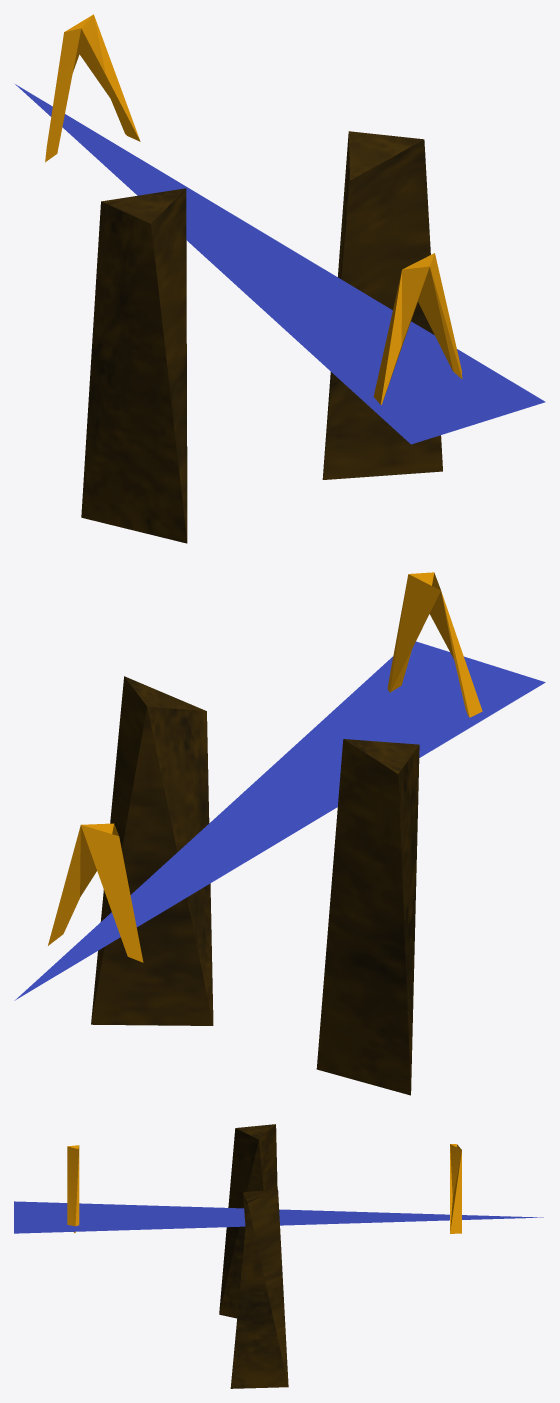
File: GangorraAzulLOD2 - Copy.fbx
3 renders of one model, top to bottom at view 1: azimuth 30°, elevation 25°; view 2: azimuth 150°, elevation 25°; view 3: azimuth 270°, elevation 25°, orthographic. The views are drawn at different scales.
Parts seen in each view (by area): view 1: GangorraAzulLOD2; view 2: GangorraAzulLOD2; view 3: GangorraAzulLOD2.
Part boxes in pixels (left/top/right/bottom): GangorraAzulLOD2: left=15, top=14, right=545, bottom=543; GangorraAzulLOD2: left=14, top=572, right=545, bottom=1095; GangorraAzulLOD2: left=14, top=1124, right=543, bottom=1388.
Size of the model in its own units: 61.62 by 64.63 by 156.
